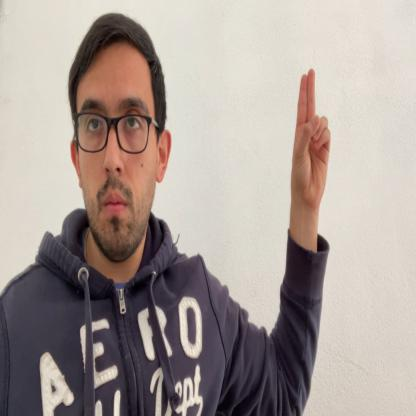U: (290, 68, 330, 213)
